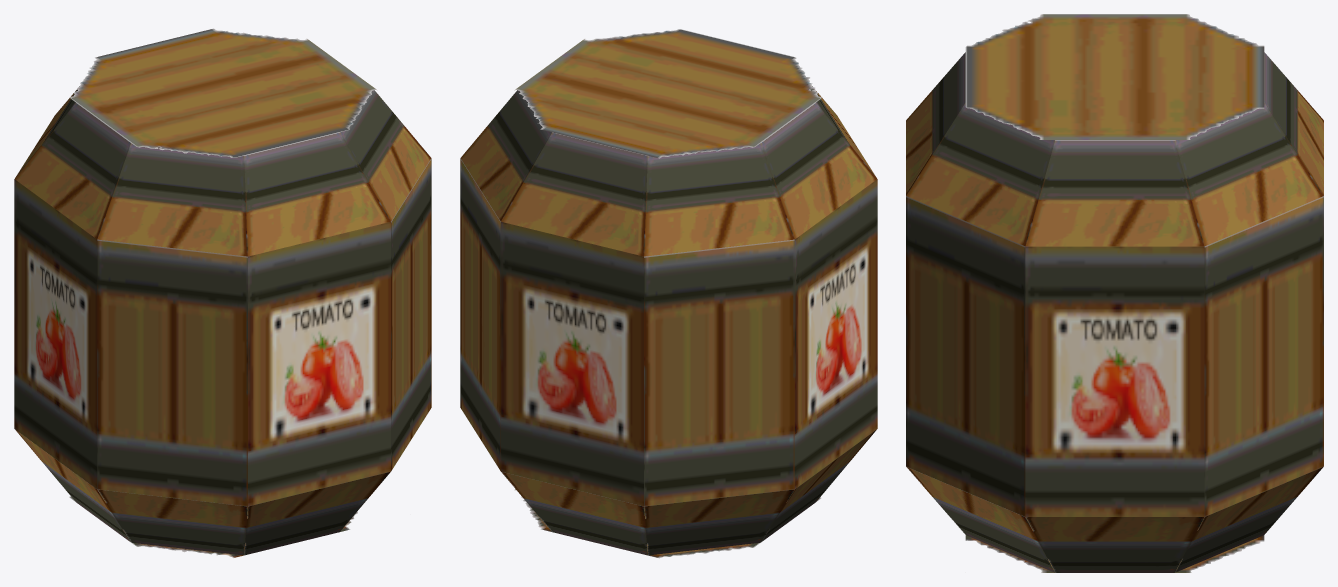
File: tomato_seed_barrel.obj
3 renders of one model, left to right at view 1: azimuth 30°, elevation 25°; view 2: azimuth 150°, elevation 25°; view 3: azimuth 270°, elevation 25°, orthographic. The views are drawn at different scales.
Visible parts, largest first — view 1: tomato_seed_barrel; view 2: tomato_seed_barrel; view 3: tomato_seed_barrel.
Boxes of the visible parts, x1=… form: tomato_seed_barrel: x1=14, y1=28, x2=431, y2=557; tomato_seed_barrel: x1=460, y1=29, x2=877, y2=558; tomato_seed_barrel: x1=906, y1=14, x2=1323, y2=572.
Bounding box in the file's own units: 0.875 × 1 × 0.875.
